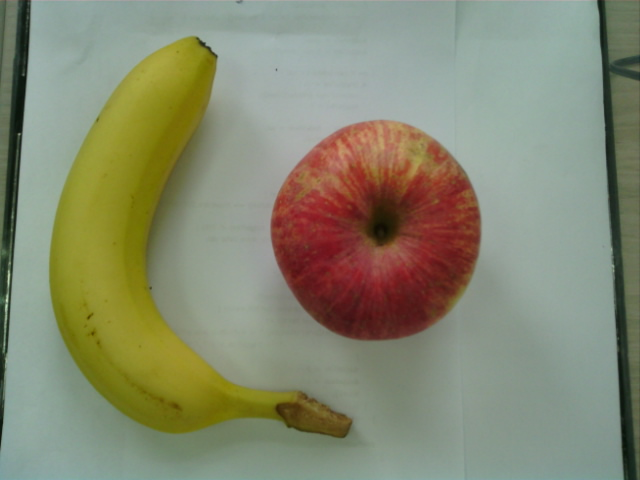normal_apple: (270, 120, 484, 340)
normal_banana: (50, 39, 340, 436)
